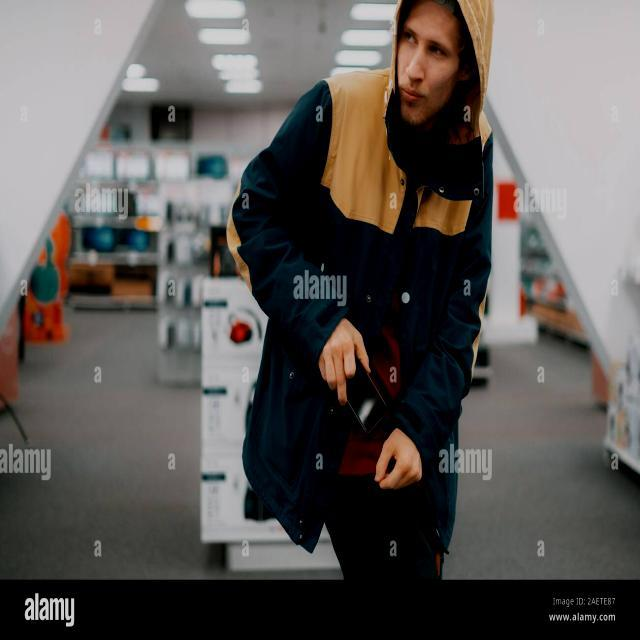shoplifting: (230, 255, 520, 548)
